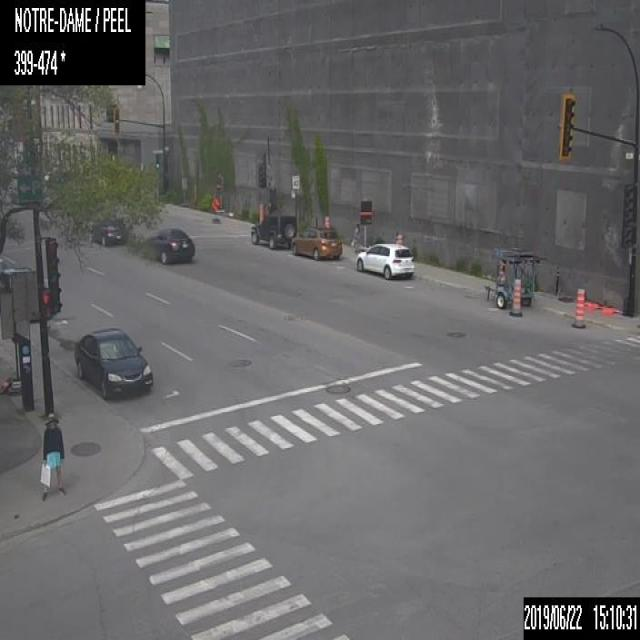construction: (483, 246, 545, 308), (570, 284, 588, 327), (508, 277, 523, 316), (600, 298, 610, 318), (210, 198, 220, 214), (323, 213, 332, 228), (554, 265, 558, 296), (393, 232, 402, 243)
pedestrian: (41, 411, 64, 498)
vehicle: (74, 325, 152, 399), (356, 240, 414, 277), (250, 209, 297, 250), (290, 225, 342, 259), (146, 227, 193, 261), (88, 223, 126, 245)
